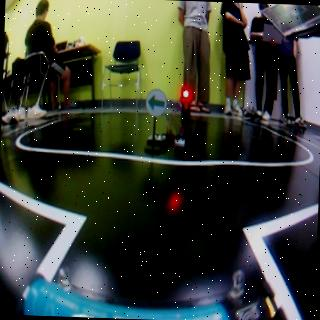left: (145, 89, 167, 118)
red: (180, 86, 192, 162)
